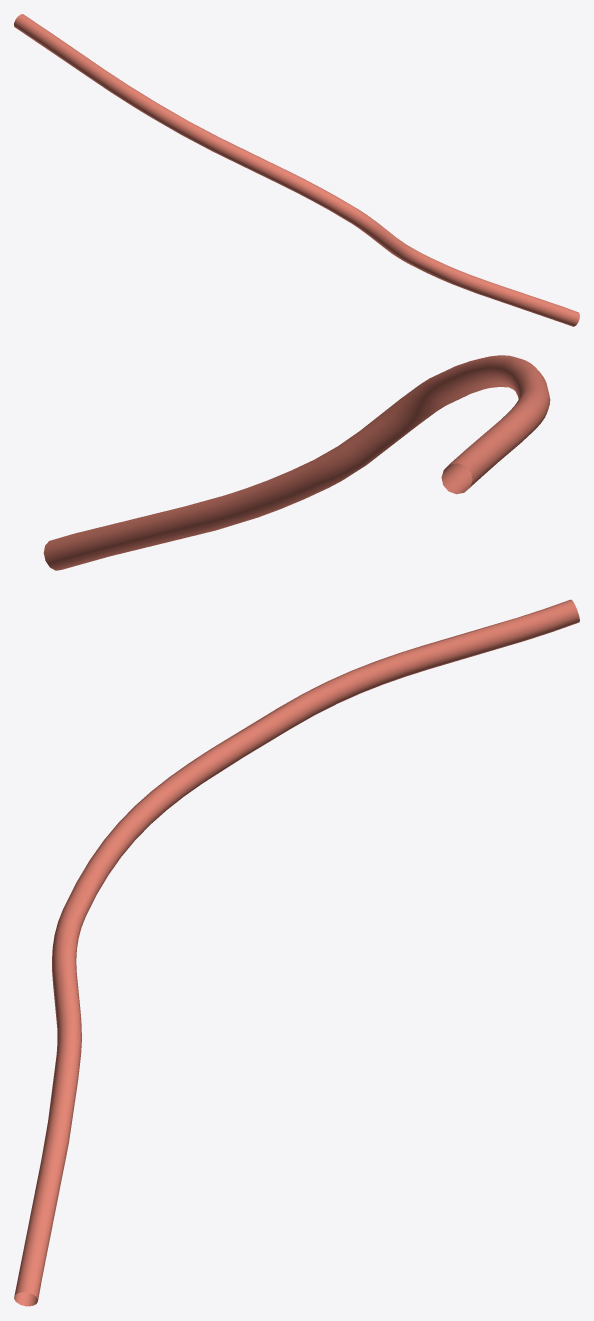
Rendered from visceras-parotid-duct-r.glb.
3 views of the same model, one above another, from view 1: azimuth 30°, elevation 25°; view 2: azimuth 150°, elevation 25°; view 3: azimuth 270°, elevation 25° (orthographic). The views are drawn at different scales.
Parts seen in each view (by area): view 1: Parotid duct.r; view 2: Parotid duct.r; view 3: Parotid duct.r.
Boxes of the visible parts, x1=… form: Parotid duct.r: x1=14, y1=14, x2=579, y2=326; Parotid duct.r: x1=43, y1=355, x2=550, y2=570; Parotid duct.r: x1=14, y1=599, x2=579, y2=1306.
Size of the model in its own units: 0.0283 by 0.0191 by 0.0231.
